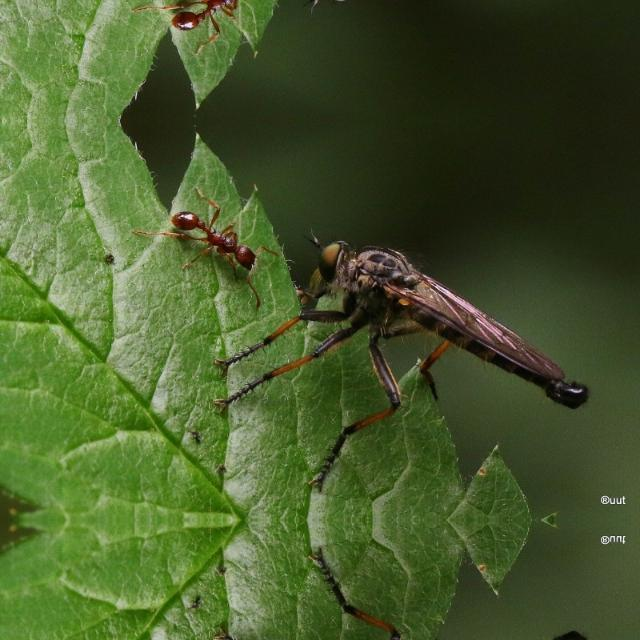Myrmica: (162, 186, 260, 278), (160, 0, 260, 54)
